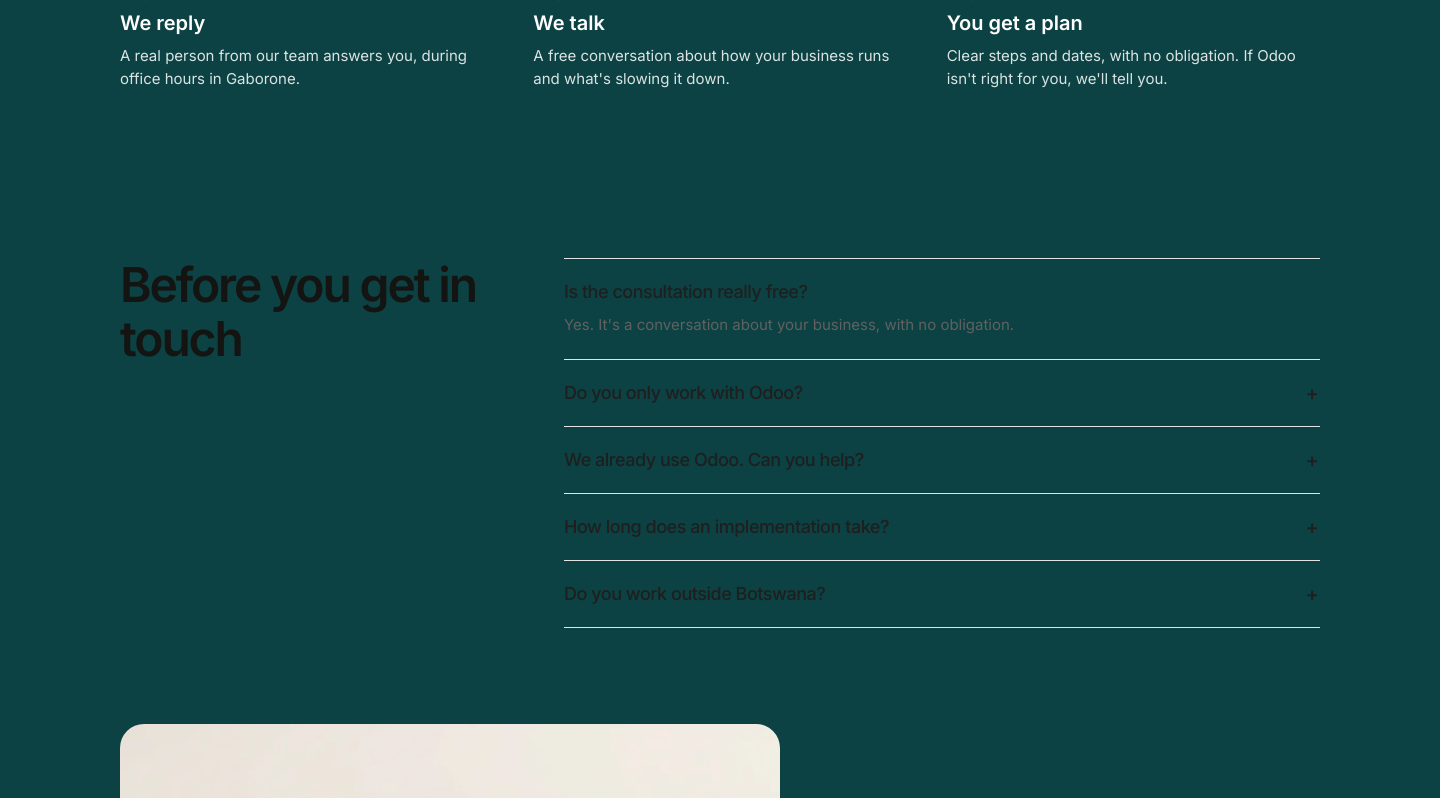
it: Contact page › opens one FAQ answer at a time, starting with the first
(page scrolled)
Click the button "Do you only work with Odoo? +" at (683, 392), box [564,360,1320,426]
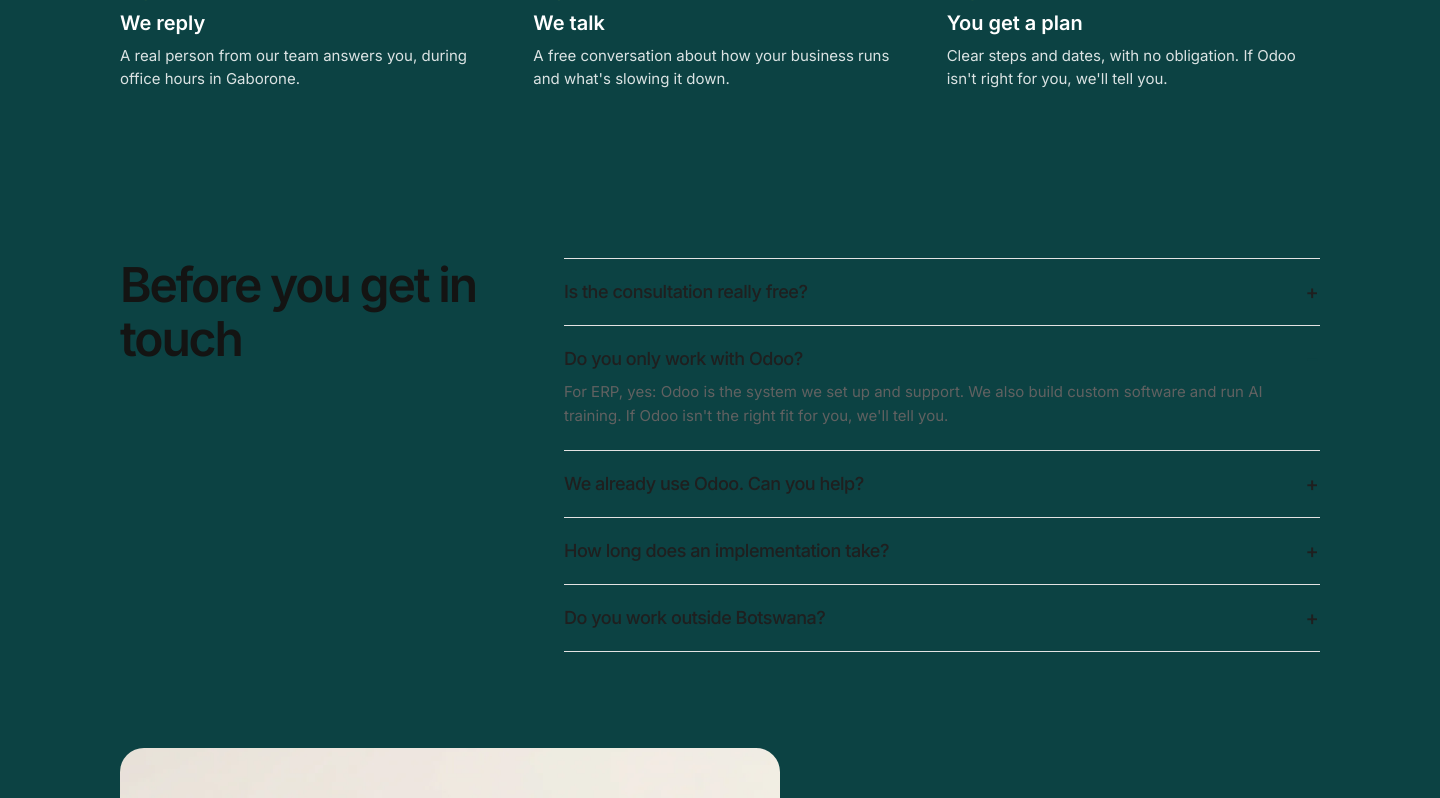
Check: the button "Do you only work with Odoo? –" is expanded, box [564,326,1320,380]
Check: the button "Is the consultation really free? +" is collapsed, box [564,259,1320,325]
Check: the text "Odoo is the system we set up and support" is shown, box [564,382,1262,425]
